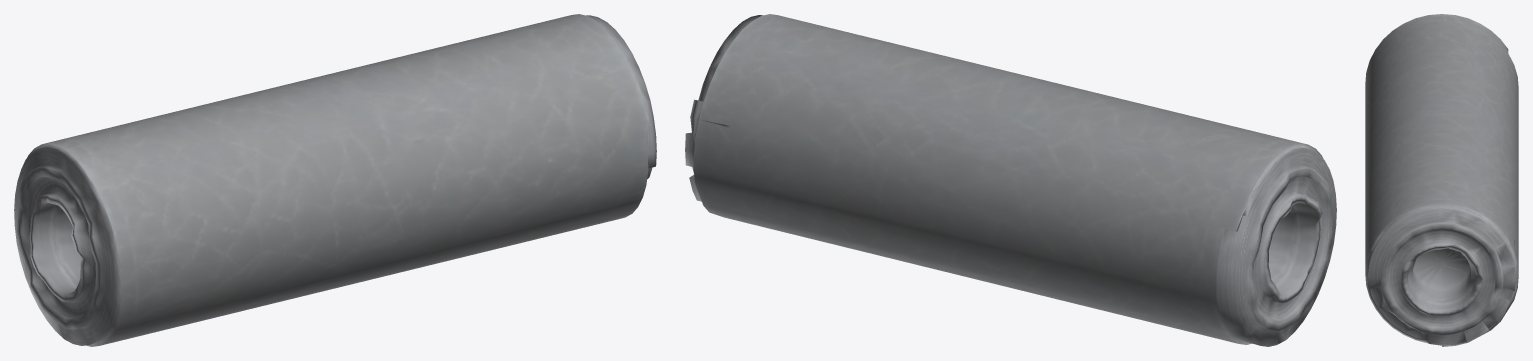
The model's file is roll_bubble.glb.
3 renders of one model, left to right at view 1: azimuth 30°, elevation 25°; view 2: azimuth 150°, elevation 25°; view 3: azimuth 270°, elevation 25°, orthographic. The views are drawn at different scales.
Visible parts, largest first — view 1: tripo_node_26330e08-e42b-4eb8-80a7-db7cfa4331a4; view 2: tripo_node_26330e08-e42b-4eb8-80a7-db7cfa4331a4; view 3: tripo_node_26330e08-e42b-4eb8-80a7-db7cfa4331a4.
Boxes of the visible parts, box(x1,y1,x2,y2) form: tripo_node_26330e08-e42b-4eb8-80a7-db7cfa4331a4: box(14, 14, 656, 346); tripo_node_26330e08-e42b-4eb8-80a7-db7cfa4331a4: box(685, 14, 1336, 346); tripo_node_26330e08-e42b-4eb8-80a7-db7cfa4331a4: box(1365, 14, 1518, 346).
Size of the model in its own units: 0.9995 by 0.3228 by 0.3208.
Materials: 1 (1 with a texture image).
